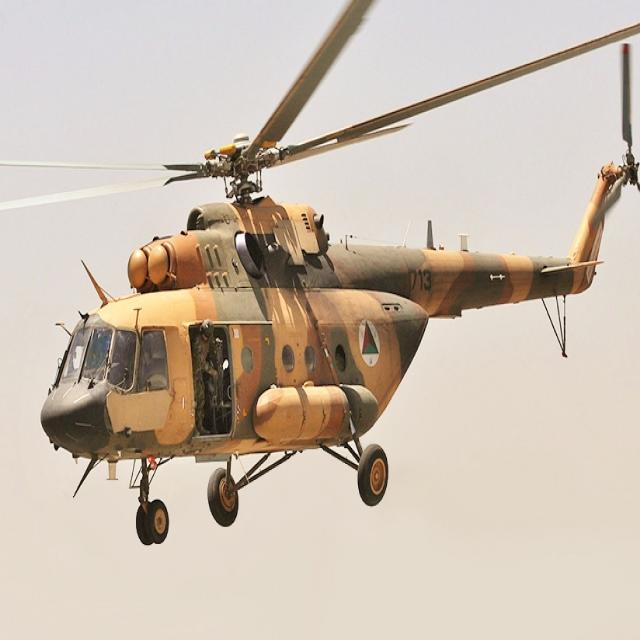helicopter: (1, 1, 640, 545)
